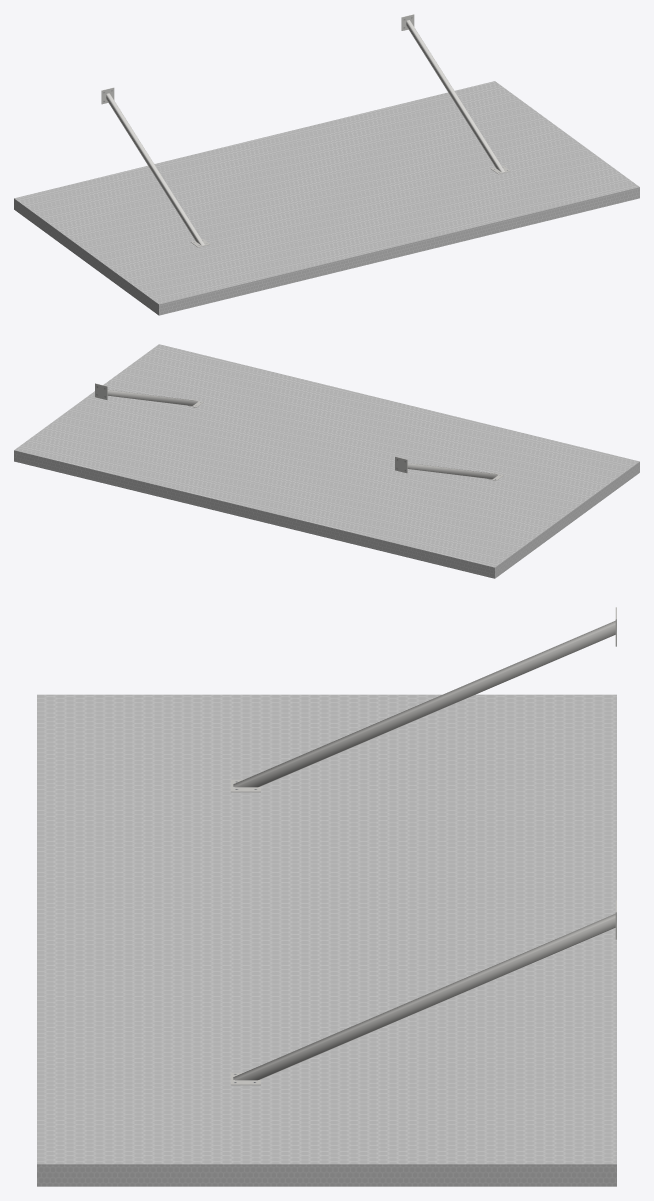
Rendered from Bar01Top.FBX.
The picture shows the model from 3 angles, top to bottom: view 1: azimuth 30°, elevation 25°; view 2: azimuth 150°, elevation 25°; view 3: azimuth 270°, elevation 25°; orthographic projection. The views are drawn at different scales.
Visible parts, largest first — view 1: Bar01Top; view 2: Bar01Top; view 3: Bar01Top.
Boxes of the visible parts, x1,y1,x2,y2 form: Bar01Top: (14,14,639,315); Bar01Top: (14,344,639,578); Bar01Top: (37,607,616,1186).
Size of the model in its own units: 450 by 102 by 235.
